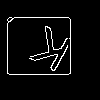K: (23, 25, 75, 81)
